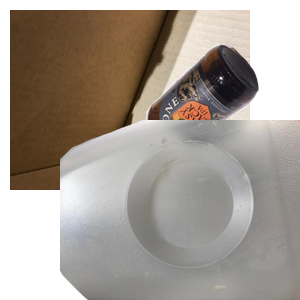cardboard: (10, 10, 250, 190)
glass: (120, 41, 300, 196)
plastic: (60, 120, 300, 300)
trash: (66, 173, 272, 300)
